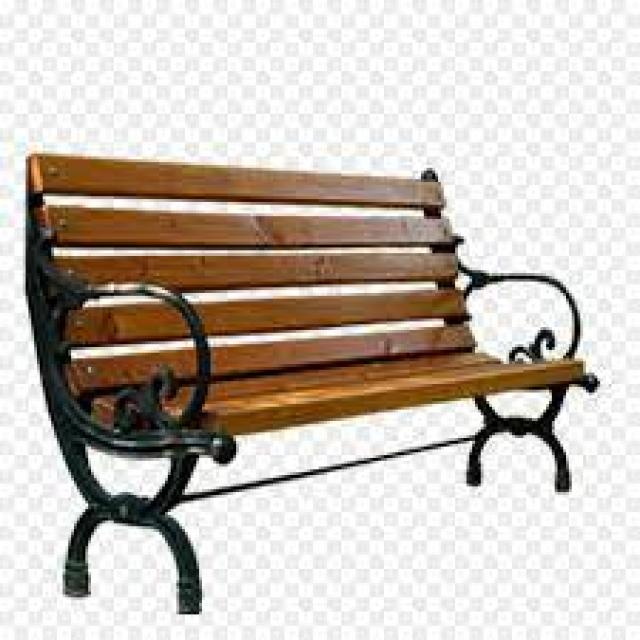chair: (22, 144, 602, 616)
